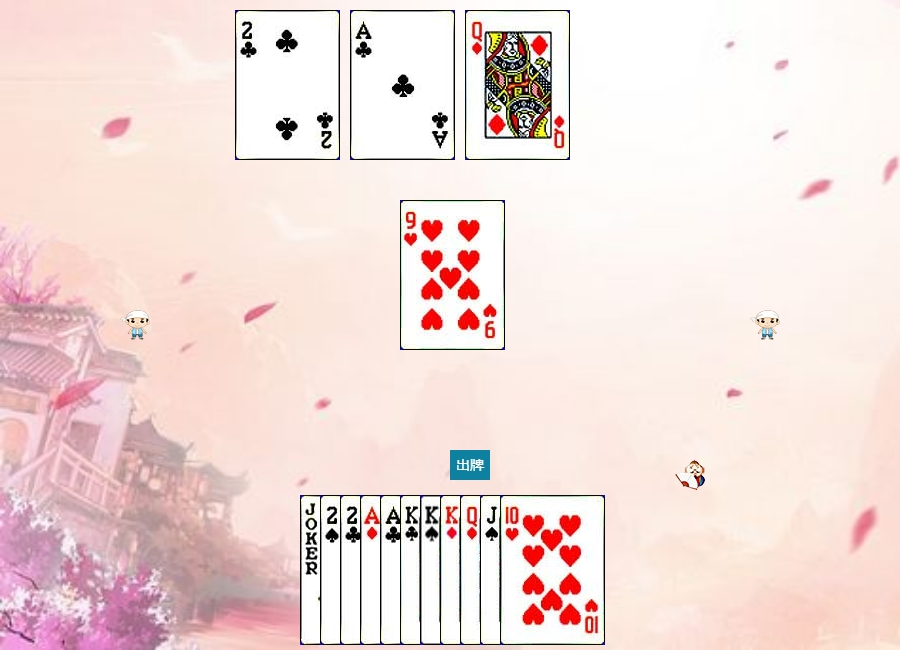10~3: (500, 495, 605, 645)
11~4: (480, 495, 585, 645)
12~1: (465, 10, 570, 160), (460, 495, 565, 645)
13~1: (440, 495, 545, 645)
13~2: (400, 495, 505, 645)
13~4: (420, 495, 525, 645)
14~1: (360, 495, 465, 645)
14~2: (350, 10, 455, 160), (380, 495, 485, 645)
15~2: (235, 10, 340, 160), (340, 495, 445, 645)
15~4: (320, 495, 425, 645)
17~3: (300, 495, 405, 645)
9~3: (400, 200, 505, 350)
